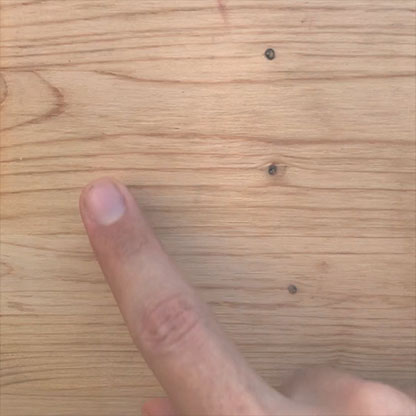fingertip: (68, 171, 154, 247)
